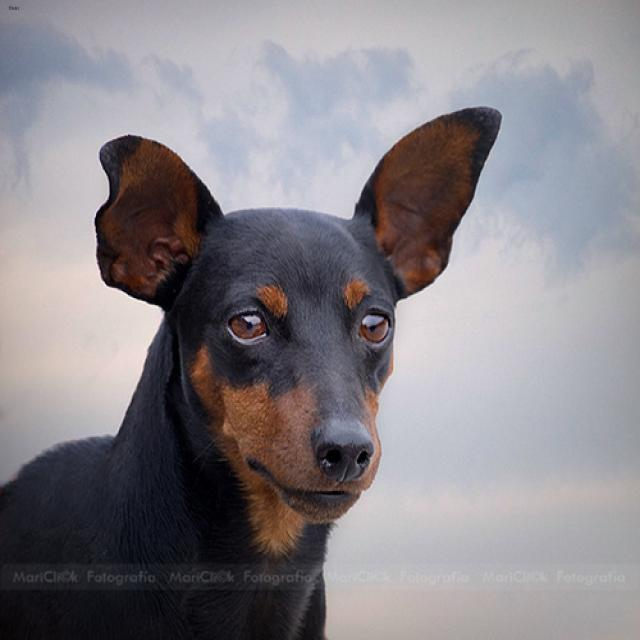dog-miniature_pinscher: (1, 101, 509, 637)
